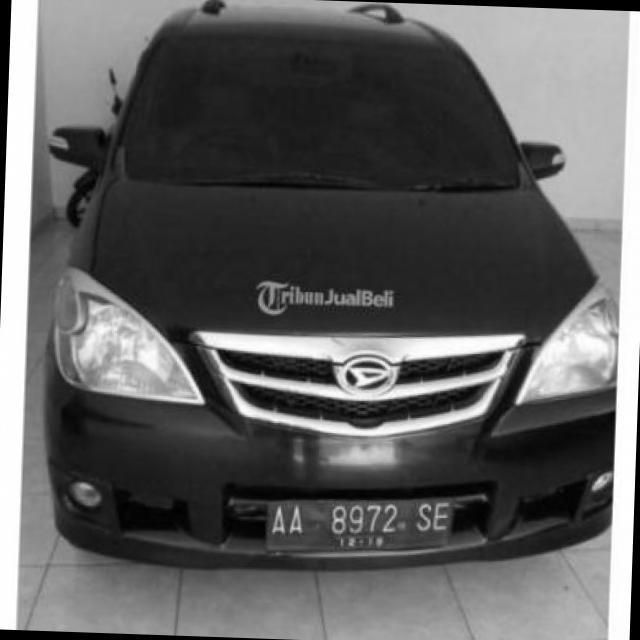2: (382, 503, 406, 538)
7: (364, 504, 381, 540)
8: (330, 506, 348, 543)
9: (345, 506, 366, 542)
A: (291, 504, 304, 536), (271, 507, 284, 536)
E: (433, 502, 452, 534)
Plate: (269, 499, 452, 550)
S: (416, 502, 432, 538)
